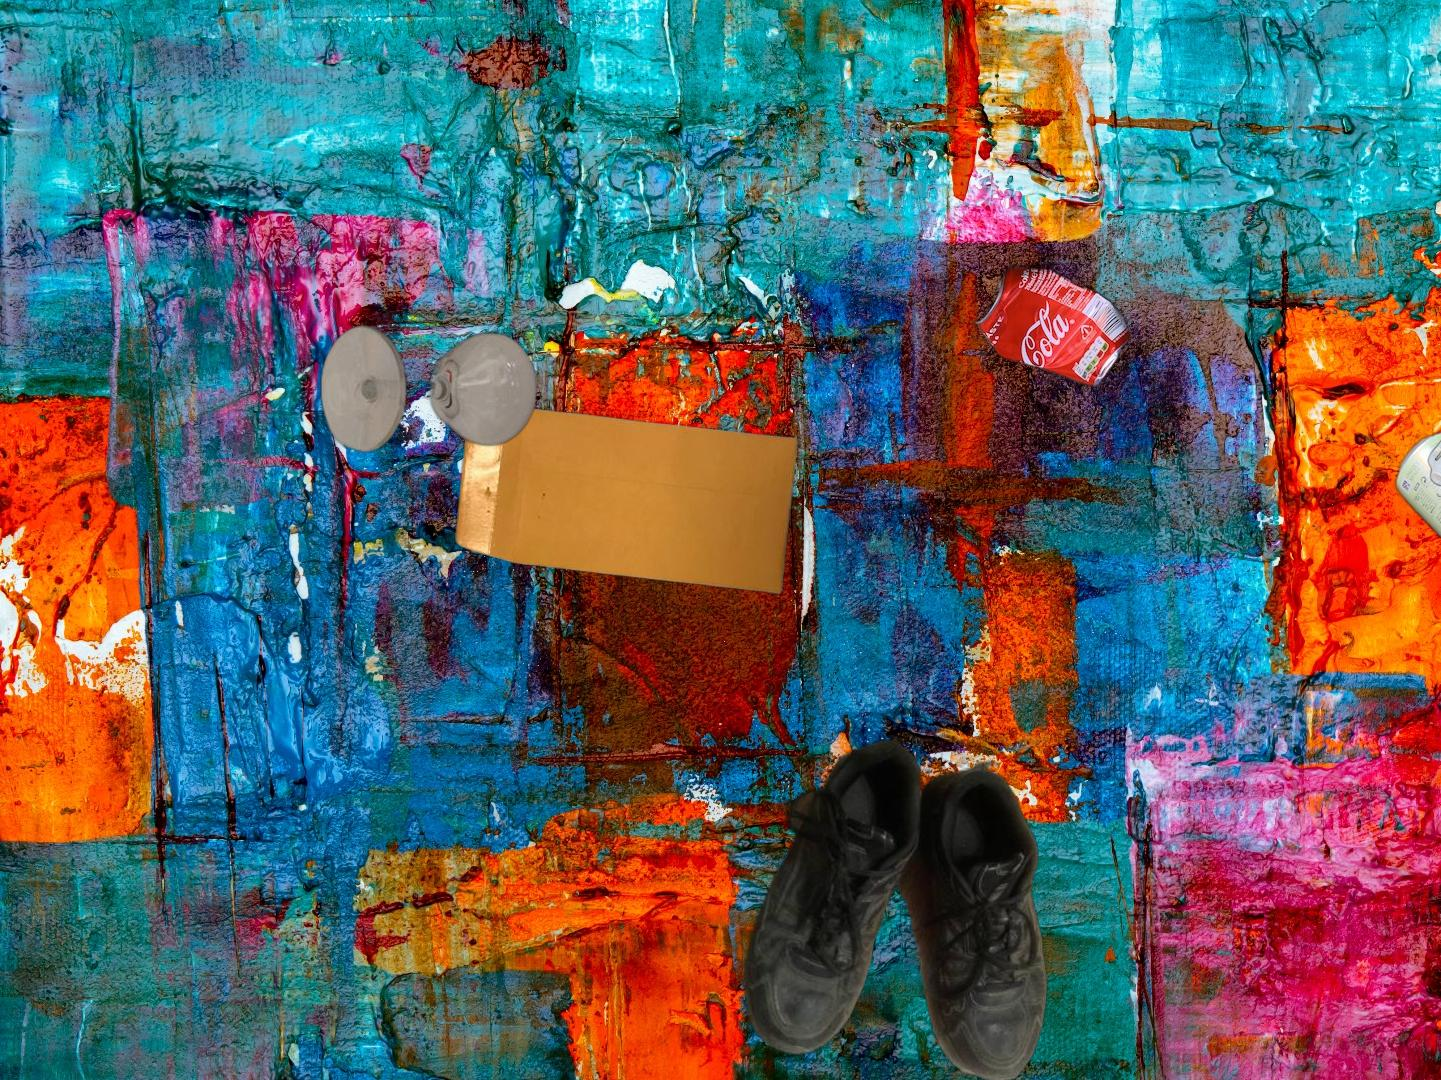glass: (317, 323, 542, 455)
metal-cans: (1118, 425, 1441, 995), (968, 260, 1137, 394)
paper: (450, 404, 803, 598)
plastic-bottles: (1424, 389, 1441, 492)
shoes: (739, 728, 1050, 1080)
